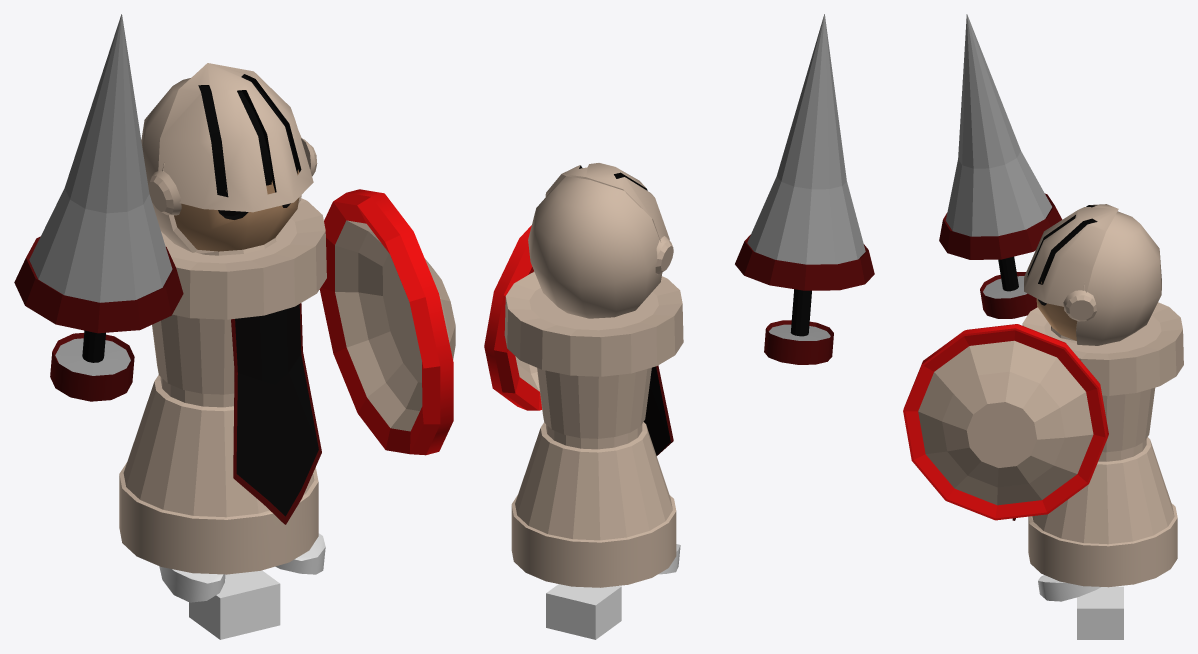
Rendered from idle_miniwarrior.FBX.
3 renders of one model, left to right at view 1: azimuth 30°, elevation 25°; view 2: azimuth 150°, elevation 25°; view 3: azimuth 270°, elevation 25°, orthographic. The views are drawn at different scales.
Parts seen in each view (by area): view 1: Cylinder001, Cylinder004, Cylinder005, Sphere001, Box008, Cylinder007, Cylinder002, Cylinder006; view 2: Cylinder001, Cylinder004, Sphere001, Cylinder005, Box008; view 3: Cylinder005, Cylinder001, Cylinder004, Sphere001, Box008, Cylinder006, Cylinder003.
Part boxes in pixels (bbox=[...]): Cylinder001: bbox=[119, 198, 326, 574]; Cylinder004: bbox=[14, 14, 183, 401]; Cylinder005: bbox=[319, 189, 455, 455]; Sphere001: bbox=[141, 63, 313, 255]; Box008: bbox=[189, 570, 280, 639]; Cylinder007: bbox=[159, 566, 225, 602]; Cylinder002: bbox=[148, 171, 181, 215]; Cylinder006: bbox=[275, 533, 325, 574]; Cylinder001: bbox=[504, 272, 683, 587]; Cylinder004: bbox=[735, 14, 874, 364]; Sphere001: bbox=[528, 163, 669, 318]; Cylinder005: bbox=[484, 225, 542, 410]; Box008: bbox=[546, 584, 621, 639]; Cylinder005: bbox=[903, 324, 1108, 520]; Cylinder001: bbox=[1012, 302, 1183, 587]; Cylinder004: bbox=[939, 14, 1062, 318]; Sphere001: bbox=[1024, 204, 1161, 345]; Box008: bbox=[1077, 586, 1123, 639]; Cylinder006: bbox=[1038, 575, 1100, 601]; Cylinder003: bbox=[1063, 290, 1096, 321].
Size of the model in its own units: 169 by 279 by 131.
